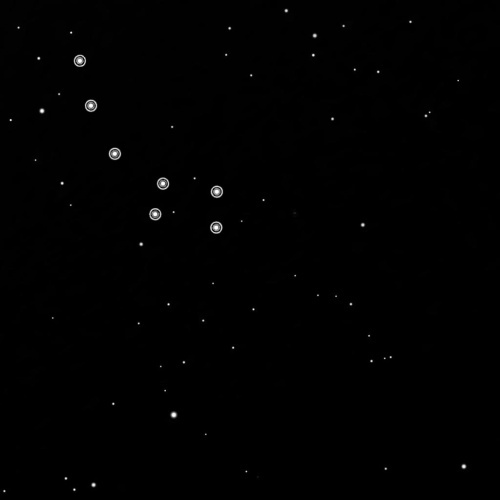ursa_minor: (68, 48, 230, 238)
